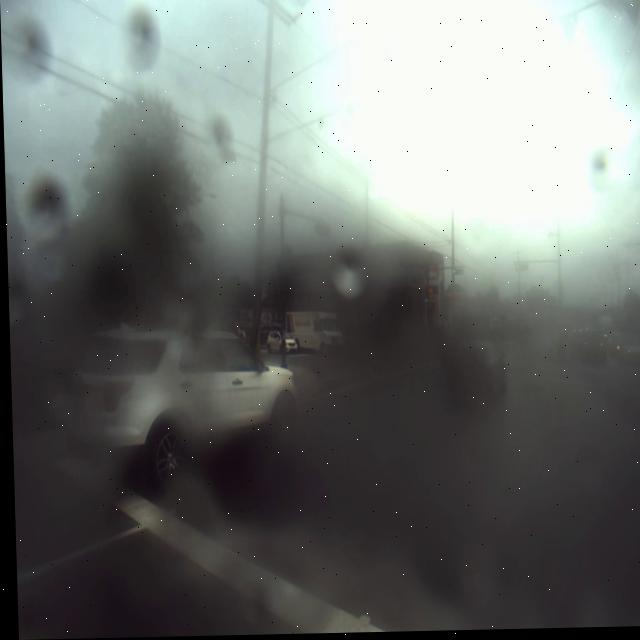car: (62, 323, 300, 475), (437, 337, 503, 395)
truck: (574, 331, 609, 368)
